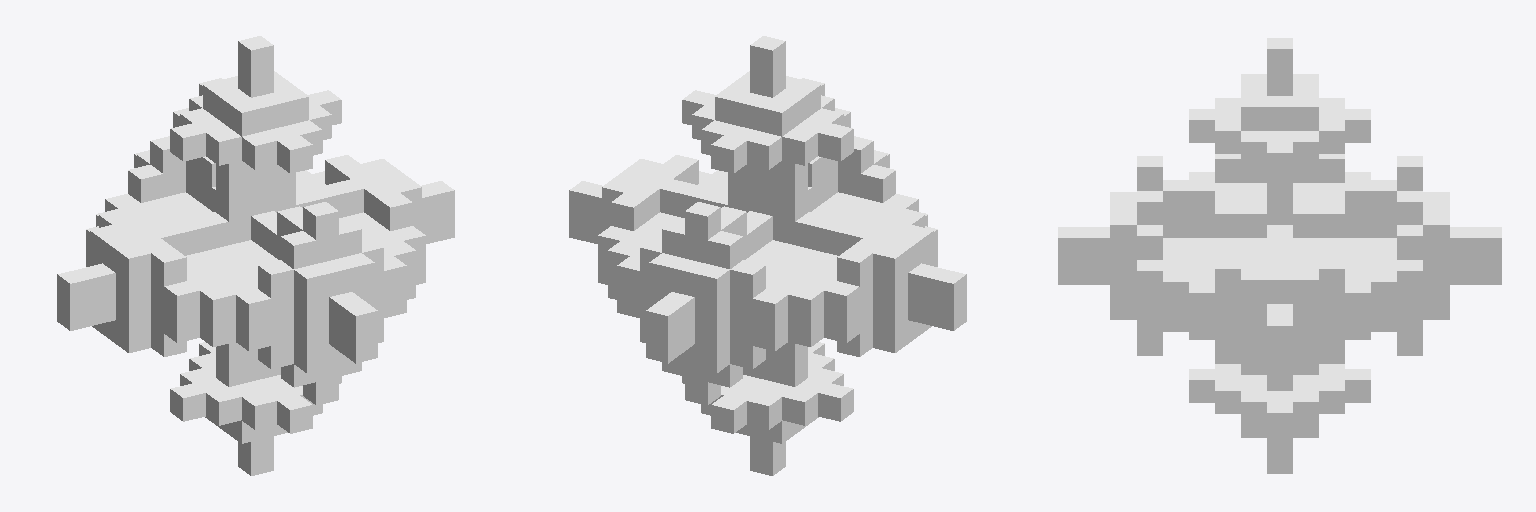
Rendered from Boss_UFO-0.obj.
3 views of the same model, side by side, from view 1: azimuth 30°, elevation 25°; view 2: azimuth 150°, elevation 25°; view 3: azimuth 270°, elevation 25° (orthographic).
Visible parts, largest first — view 1: object 1; view 2: object 1; view 3: object 1.
Part boxes in pixels (x1,y1,x2,y2): object 1: (57,36,454,475); object 1: (569,36,966,475); object 1: (1058,38,1501,473).
Bounding box in the file's own units: 1.7 × 1.8 × 1.7.